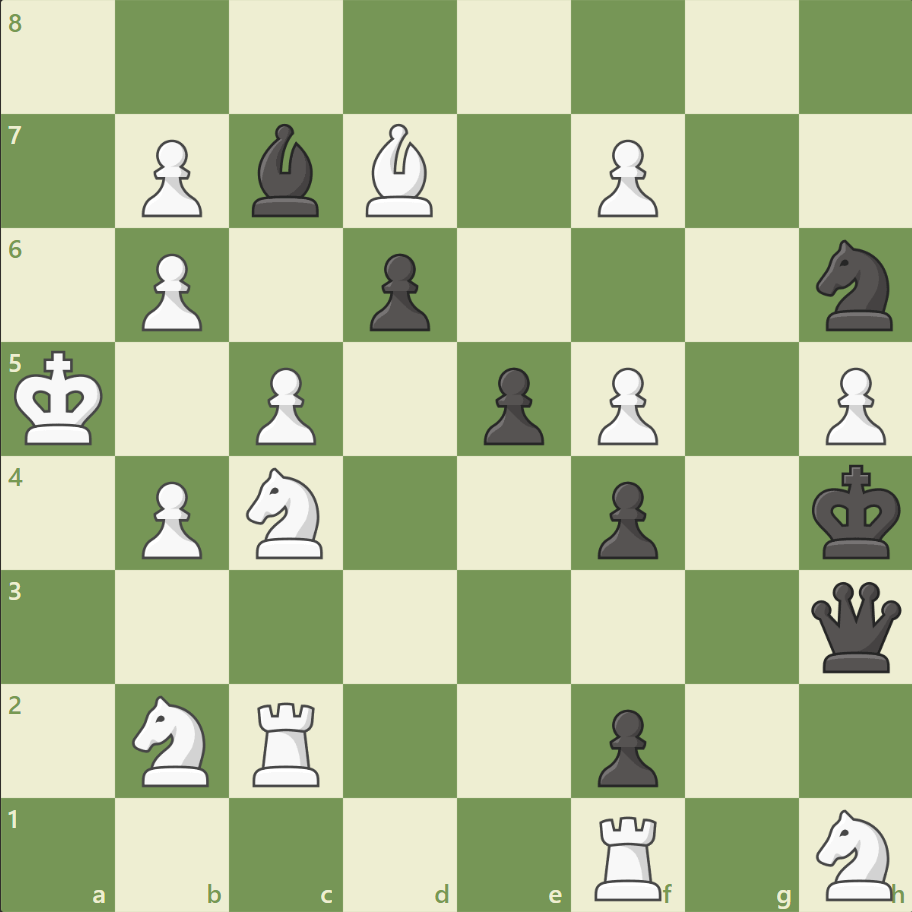B: (358, 120, 442, 222)
K: (11, 344, 111, 452)
N: (124, 688, 222, 791), (238, 461, 335, 564), (806, 802, 903, 904)
P: (133, 132, 208, 223), (133, 246, 208, 337), (247, 359, 322, 450), (133, 473, 208, 564), (588, 132, 662, 223), (588, 359, 662, 450), (815, 359, 889, 450)
R: (587, 806, 670, 904), (246, 693, 329, 790)
b: (244, 120, 328, 222)
k: (806, 458, 906, 566)
n: (806, 234, 903, 337)
p: (474, 359, 549, 450), (361, 246, 435, 337), (588, 473, 662, 564), (588, 700, 662, 791)
q: (805, 576, 904, 676)
